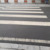zebra: (1, 6, 50, 49)
